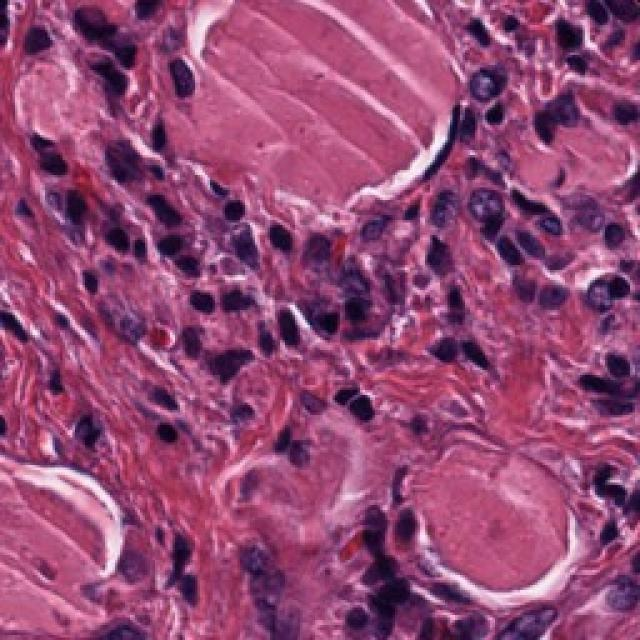normal: (549, 169, 625, 254), (73, 280, 142, 361), (241, 201, 325, 260), (580, 243, 636, 330), (403, 175, 462, 249), (341, 191, 399, 266), (461, 168, 523, 232), (149, 54, 205, 122), (466, 54, 522, 114)
